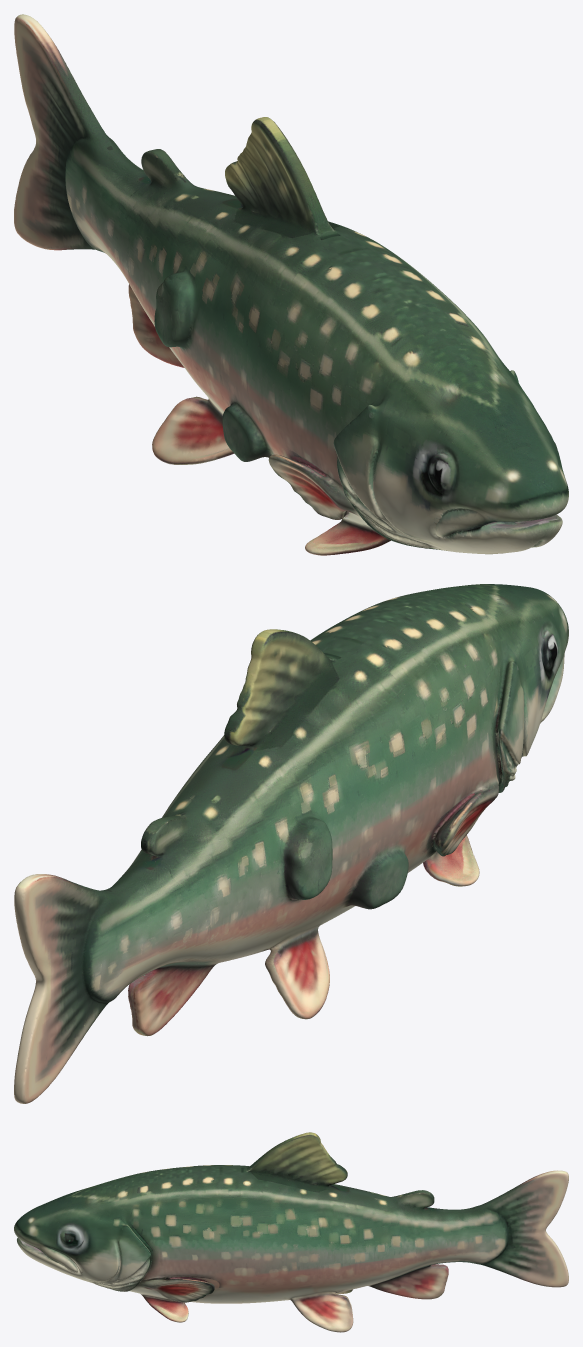
The model's file is Omble.fbx.
3 views of the same model, one above another, from view 1: azimuth 30°, elevation 25°; view 2: azimuth 150°, elevation 25°; view 3: azimuth 270°, elevation 25° (orthographic). The views are drawn at different scales.
Visible parts, largest first — view 1: Mesh_0; view 2: Mesh_0; view 3: Mesh_0.
Part boxes in pixels (x1,y1,x2,y2): Mesh_0: (14,14,568,555); Mesh_0: (14,584,568,1103); Mesh_0: (14,1132,568,1332).
Size of the model in its own units: 38.13 by 67.84 by 190.
1 material, 1 textured.
